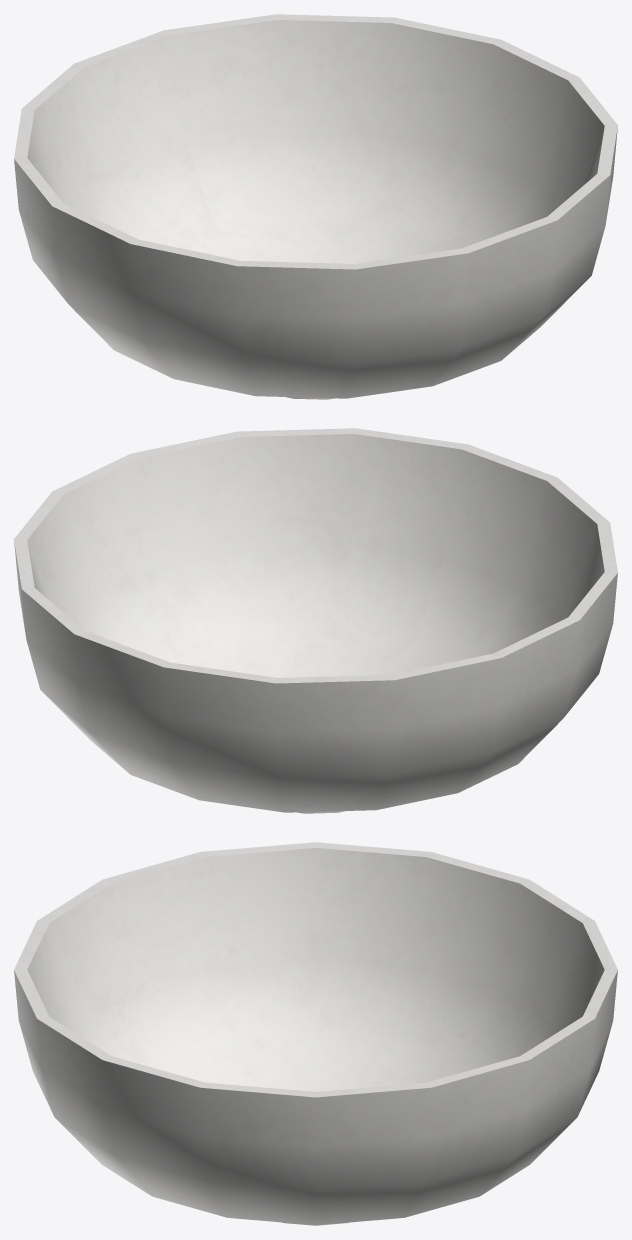
File: BowlLarge.fbx
3 views of the same model, one above another, from view 1: azimuth 30°, elevation 25°; view 2: azimuth 150°, elevation 25°; view 3: azimuth 270°, elevation 25° (orthographic).
Visible parts, largest first — view 1: BowlBig.001; view 2: BowlBig.001; view 3: BowlBig.001.
Part boxes in pixels (bbox=[...]): BowlBig.001: bbox=[14, 14, 617, 399]; BowlBig.001: bbox=[14, 428, 617, 813]; BowlBig.001: bbox=[14, 842, 617, 1225].
Bounding box in the file's own units: 0.4403 × 0.4403 × 0.1772.
